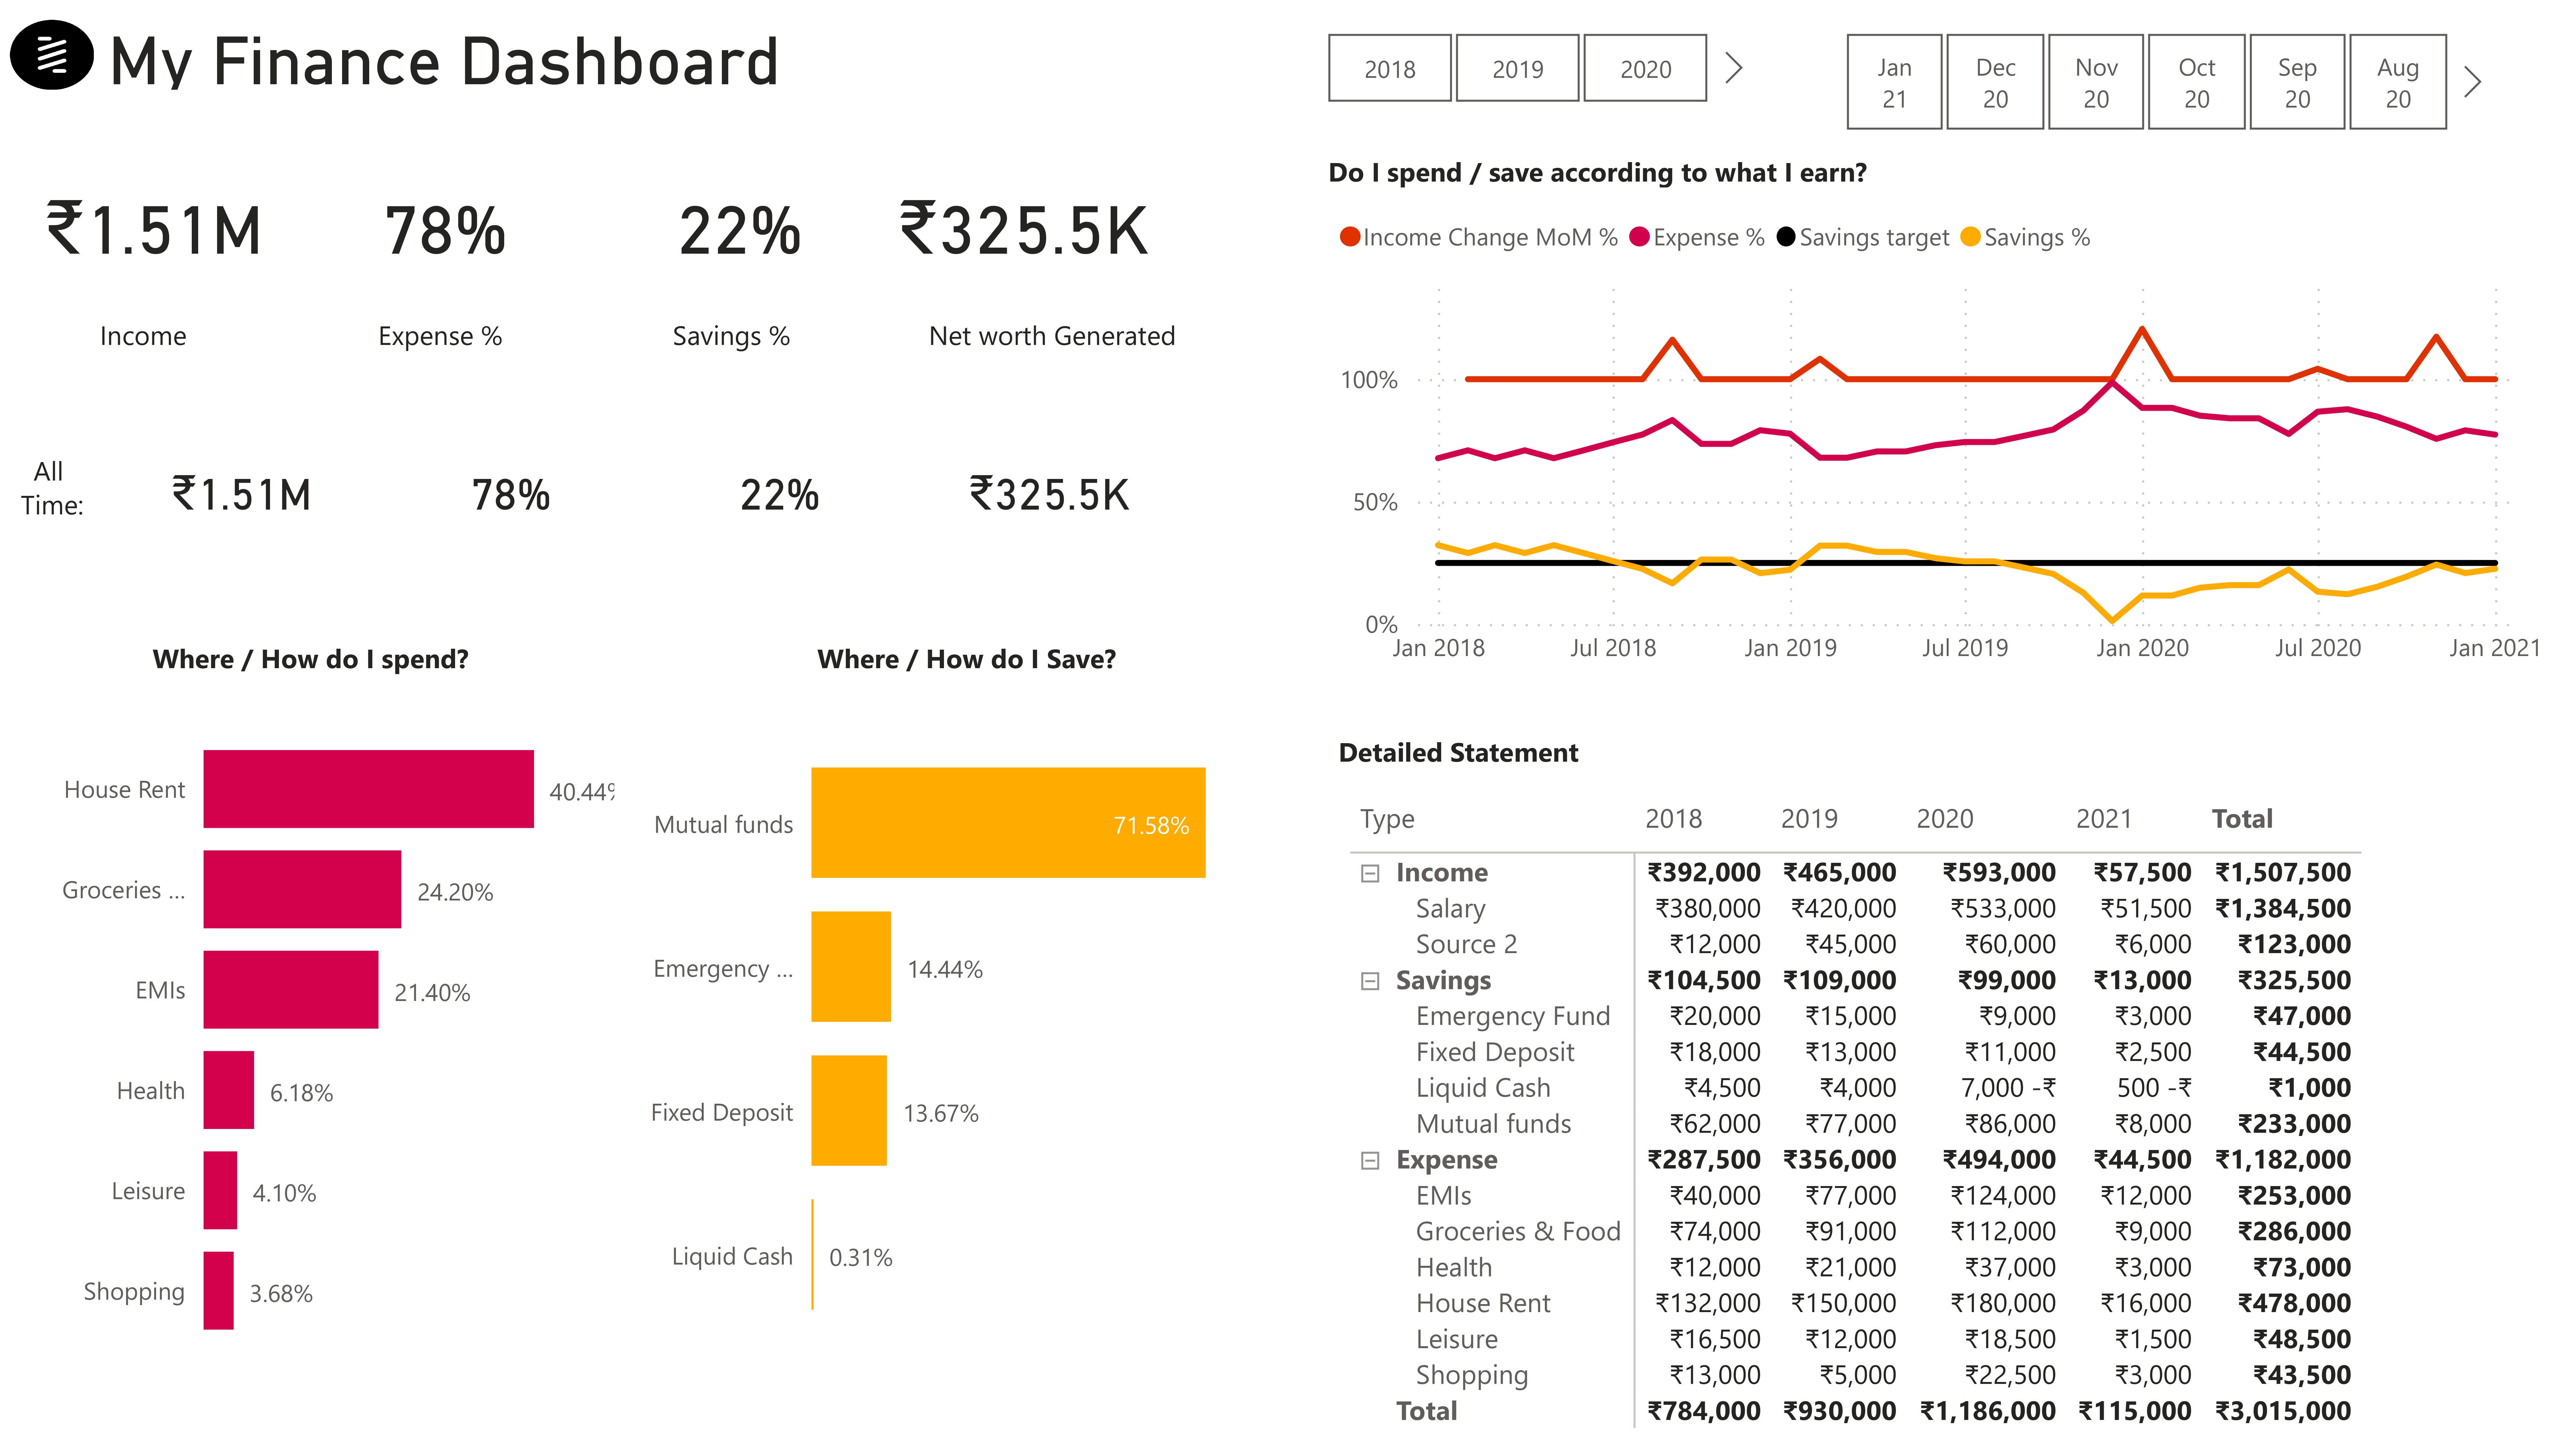

Layout of this report page (visuals, bound fields, positions):
{"tool":"powerbi","page":{"name":"Fin Dashboard","canvas":[1280,720],"ordinal":0},"visuals":[{"type":"card","fields":{"Values":["Key Measures.Title"]},"box":[0.9,0,435.3,44.8],"z":0},{"type":"image","box":[0,0,51.7,44.8],"z":1000},{"type":"actionButton","box":[0,0,48.3,44.8],"z":2000},{"type":"card","fields":{"Values":["Key Measures.Total Income"]},"box":[8.2,44.5,137.6,126.7],"z":3000},{"type":"card","fields":{"Values":["Key Measures.Expense %"]},"box":[153.7,44.5,137.6,126.7],"z":4000},{"type":"card","fields":{"Values":["Key Measures.Savings %"]},"box":[302.2,44.5,137.6,126.7],"z":5000},{"type":"card","fields":{"Values":["Key Measures.Total Saving"]},"box":[443.7,44.5,137.6,126.7],"z":6000},{"type":"textbox","box":[12.2,149.4,119.8,29.7],"z":7000},{"type":"textbox","box":[160.6,149.4,119.8,29.7],"z":8000},{"type":"textbox","box":[307.1,149.4,119.8,29.7],"z":9000},{"type":"textbox","box":[448.9,149.4,157.4,41.6],"z":10000},{"type":"slicer","fields":{"Values":["FinData.Year"]},"box":[640,5.2,240.4,47.6],"z":11000},{"type":"slicer","fields":{"Values":["FinData.Date"]},"box":[899.9,5.2,350.8,62.1],"z":12000},{"type":"card","fields":{"Values":["Key Measures.Total Saving"]},"box":[456.6,179.2,137.6,126.7],"z":13000},{"type":"card","fields":{"Values":["Key Measures.Savings %"]},"box":[321.7,179.2,137.6,126.7],"z":14000},{"type":"card","fields":{"Values":["Key Measures.Expense %"]},"box":[186.7,179.2,137.6,126.7],"z":15000},{"type":"card","fields":{"Values":["Key Measures.Total Income"]},"box":[51.8,179.1,137.6,126.7],"z":16000},{"type":"textbox","box":[0.6,216.7,50.5,52.5],"z":17000},{"type":"clusteredBarChart","fields":{"Category":["FinData.Component"],"Y":["Key Measures.Total Expense"]},"box":[10.9,338.5,313.7,350.4],"z":18000},{"type":"textbox","box":[0,311.4,311.4,26.8],"z":19000},{"type":"clusteredBarChart","fields":{"Category":["FinData.Component"],"Y":["Key Measures.Total Saving"]},"box":[307.8,338.5,344.4,350.4],"z":20000},{"type":"textbox","box":[328.6,311.4,311.4,26.8],"z":21000},{"type":"lineChart","fields":{"Y":["Key Measures.Income Change MoM %","Key Measures.Expense %","Key Measures.Savings target","Key Measures.Savings %"],"Category":["FinData.Date"]},"box":[665.9,94.3,614.1,243.9],"z":22000},{"type":"textbox","box":[660.8,67.5,312.2,26.8],"z":23000},{"type":"pivotTable","fields":{"Values":["Key Measures.Values"],"Columns":["FinData.Year","FinData.Date"],"Rows":["Type.Type","FinData.Component"]},"box":[672,390.9,604.5,329.5],"z":24000},{"type":"textbox","box":[665.9,358.1,312.2,26.8],"z":25000}]}

Visuals, with their boxes in screenshot pixels (x1, y1, x2, y2), scaled from the page's 1280x720 canvas onto the 2553x1456 screenshot:
card - Key Measures.Title: <box>2,0,870,91</box>
image: <box>0,0,103,91</box>
actionButton: <box>0,0,96,91</box>
card - Key Measures.Total Income: <box>16,90,291,346</box>
card - Key Measures.Expense %: <box>307,90,581,346</box>
card - Key Measures.Savings %: <box>603,90,877,346</box>
card - Key Measures.Total Saving: <box>885,90,1159,346</box>
textbox: <box>24,302,263,362</box>
textbox: <box>320,302,559,362</box>
textbox: <box>612,302,851,362</box>
textbox: <box>895,302,1209,386</box>
slicer - FinData.Year: <box>1276,11,1756,107</box>
slicer - FinData.Date: <box>1795,11,2495,136</box>
card - Key Measures.Total Saving: <box>911,362,1185,619</box>
card - Key Measures.Savings %: <box>642,362,916,619</box>
card - Key Measures.Expense %: <box>372,362,647,619</box>
card - Key Measures.Total Income: <box>103,362,378,618</box>
textbox: <box>1,438,102,544</box>
clusteredBarChart - FinData.Component x Key Measures.Total Expense: <box>22,684,648,1393</box>
textbox: <box>0,630,621,684</box>
clusteredBarChart - FinData.Component x Key Measures.Total Saving: <box>614,684,1301,1393</box>
textbox: <box>655,630,1276,684</box>
lineChart - Key Measures.Income Change MoM % x Key Measures.Expense %: <box>1328,191,2553,684</box>
textbox: <box>1318,137,1941,191</box>
pivotTable - Key Measures.Values x FinData.Year: <box>1340,790,2546,1456</box>
textbox: <box>1328,724,1951,778</box>
